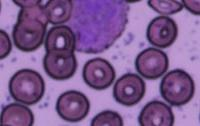E: (68, 0, 130, 54)
